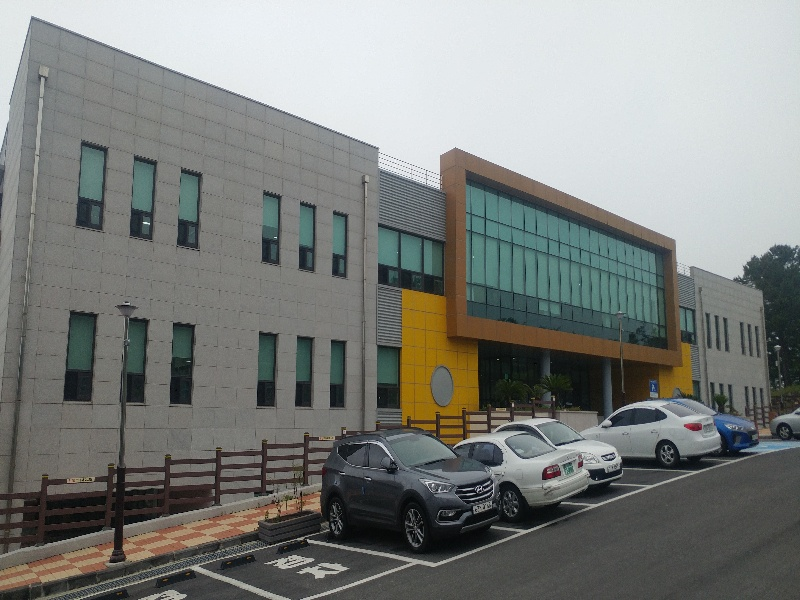Digital Library: (4, 31, 768, 410)
